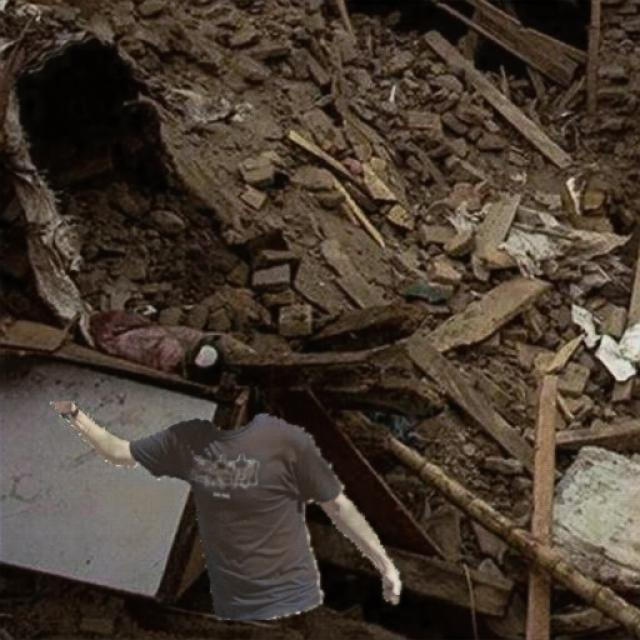Person in Rubble: (50, 401, 400, 619)
